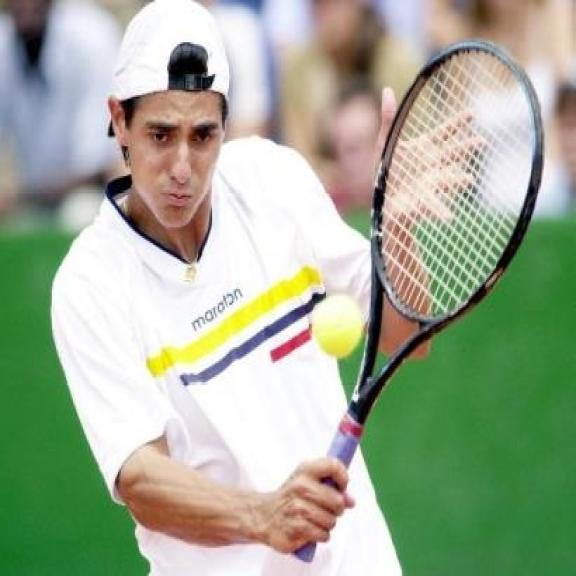face: (106, 88, 226, 230)
